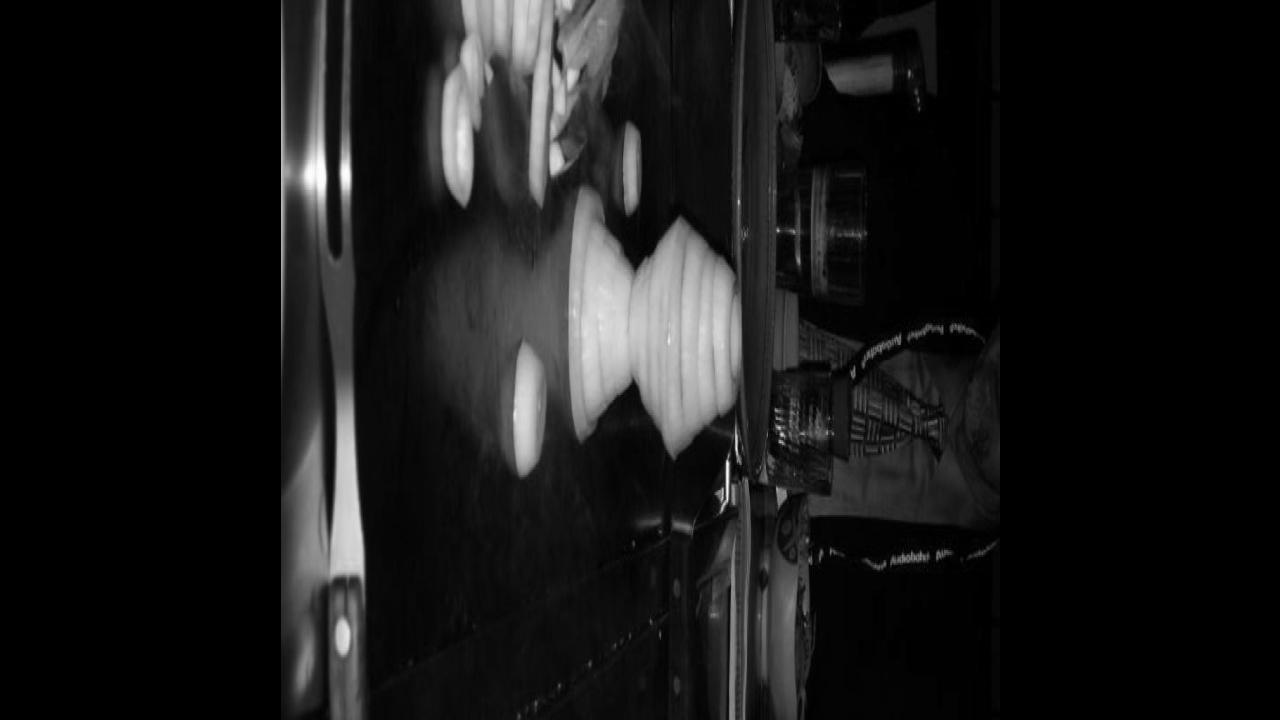fork: (308, 0, 370, 720)
